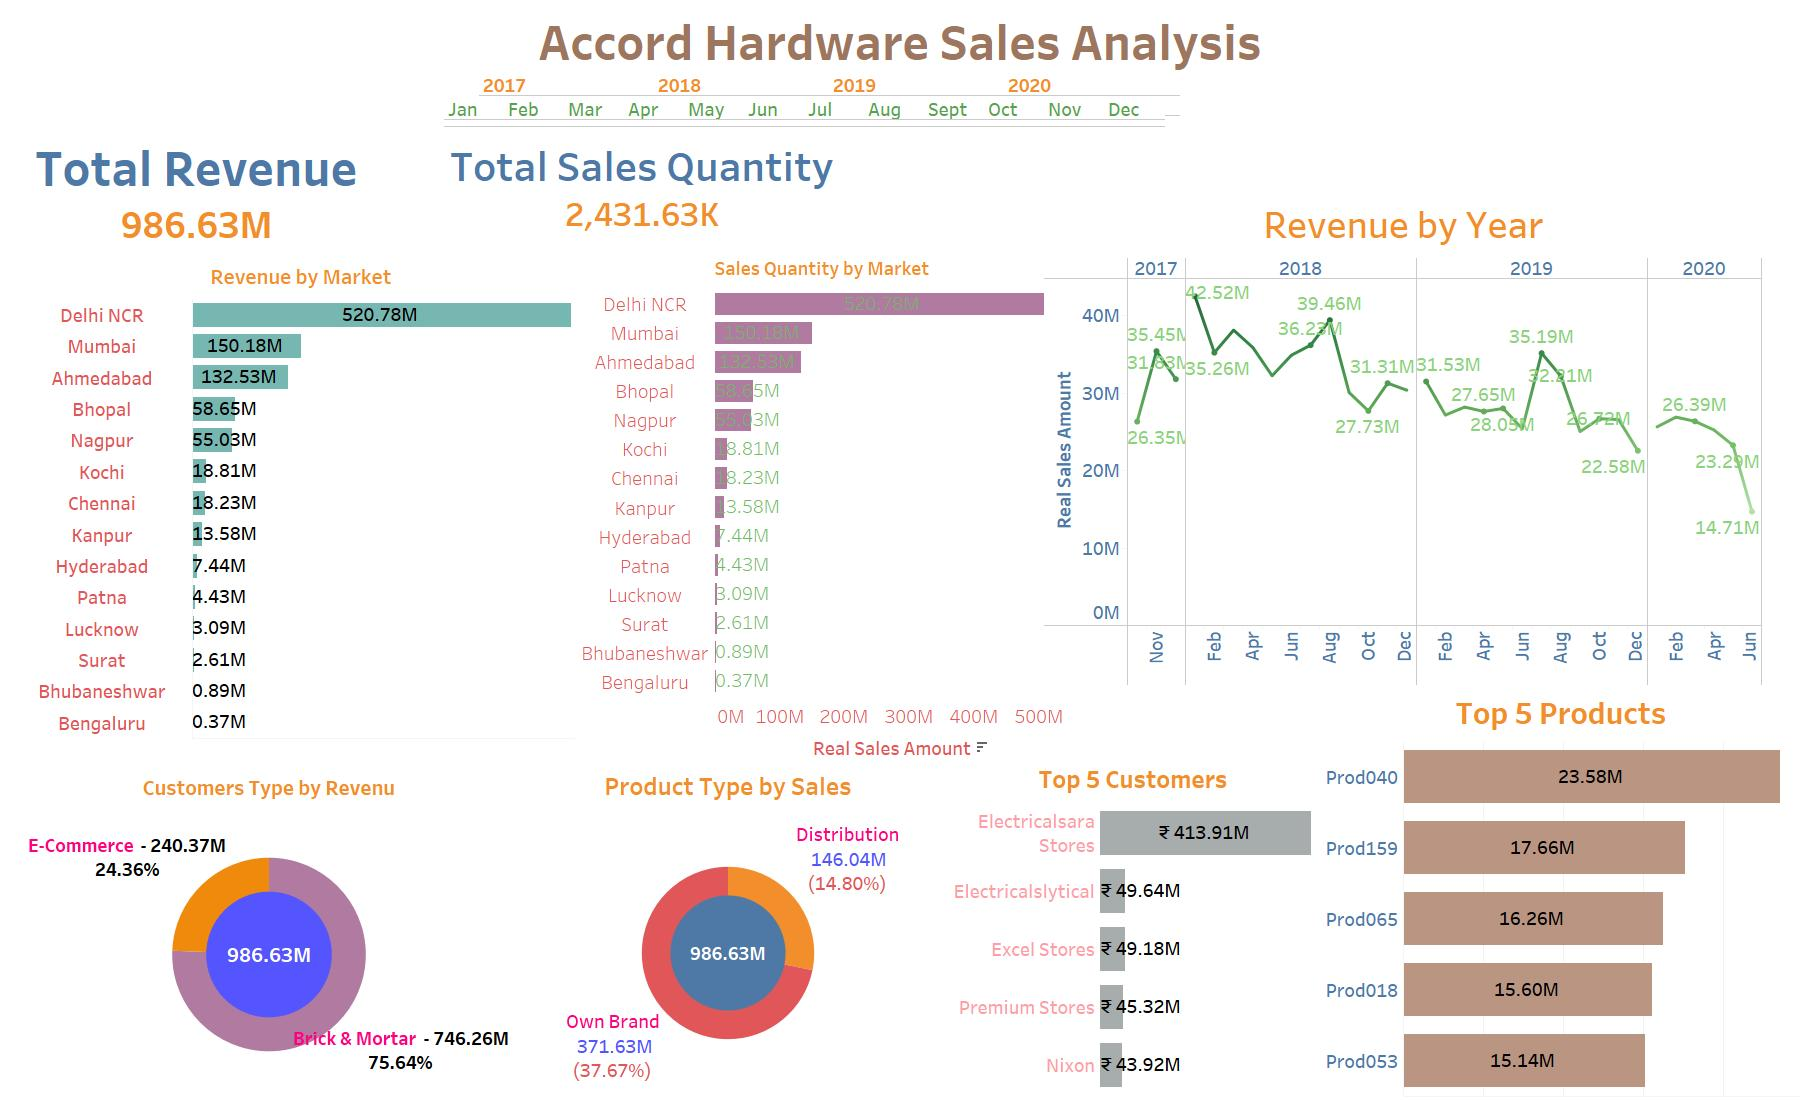

The page's visual inventory and layout, read from the dashboard file:
{"tool":"tableau","page":{"name":"Dashboard 1","canvas":[1800,1100],"ordinal":0},"visuals":[{"type":"title","box":[8,8,1784,65]},{"type":"worksheet","title":"year ","mark":"Automatic","cols":["cy_date"],"box":[479,75,701,41]},{"type":"worksheet","title":"month","mark":"Automatic","cols":["cy_date"],"box":[444,99,721,41]},{"type":"worksheet","title":"sales quantity","mark":"Automatic","box":[445,123,395,128]},{"type":"worksheet","title":"Revenue","mark":"Automatic","box":[26,129,342,125]},{"type":"worksheet","title":"revenue by year","mark":"Automatic","rows":["Calculation_127789674606899201"],"cols":["cy_date","cy_date"],"box":[1044,193.1,719,492.6]},{"type":"worksheet","title":"sales quantity by market ","mark":"Automatic","rows":["markets_name"],"cols":["Calculation_127789674606899201"],"box":[575,249,494,518]},{"type":"worksheet","title":"revenueby market ","mark":"Automatic","rows":["markets_name"],"cols":["Calculation_127789674606899201"],"box":[12,256,578,482]},{"type":"worksheet","title":"top 5 product","mark":"Automatic","rows":["product_code (products)"],"cols":["Calculation_127789674606899201"],"box":[1323,685,476,411]},{"type":"worksheet","title":"top 5 cx","mark":"Automatic","rows":["custmer_name"],"cols":["Calculation_127789674606899201"],"box":[944,756,378,338]},{"type":"worksheet","title":"product type","mark":"Pie","rows":["Calculation_1134062716585242627","Calculation_1134062716585242627"],"box":[515,763,426,332]},{"type":"worksheet","title":"cus type","mark":"Pie","rows":["Calculation_1134062716583047169","Calculation_1134062716583047169"],"box":[28,767,482,333]}]}

Visuals, with their boxes in screenshot pixels (x1, y1, x2, y2), scaled from the page's 1800x1100 canvas onto the 1800x1100 screenshot:
title: box=[8, 8, 1792, 73]
"year " worksheet: box=[479, 75, 1180, 116]
"month" worksheet: box=[444, 99, 1165, 140]
"sales quantity" worksheet: box=[445, 123, 840, 251]
"Revenue" worksheet: box=[26, 129, 368, 254]
"revenue by year" worksheet: box=[1044, 193, 1763, 686]
"sales quantity by market " worksheet: box=[575, 249, 1069, 767]
"revenueby market " worksheet: box=[12, 256, 590, 738]
"top 5 product" worksheet: box=[1323, 685, 1799, 1096]
"top 5 cx" worksheet: box=[944, 756, 1322, 1094]
"product type" worksheet (Pie marks): box=[515, 763, 941, 1095]
"cus type" worksheet (Pie marks): box=[28, 767, 510, 1099]
